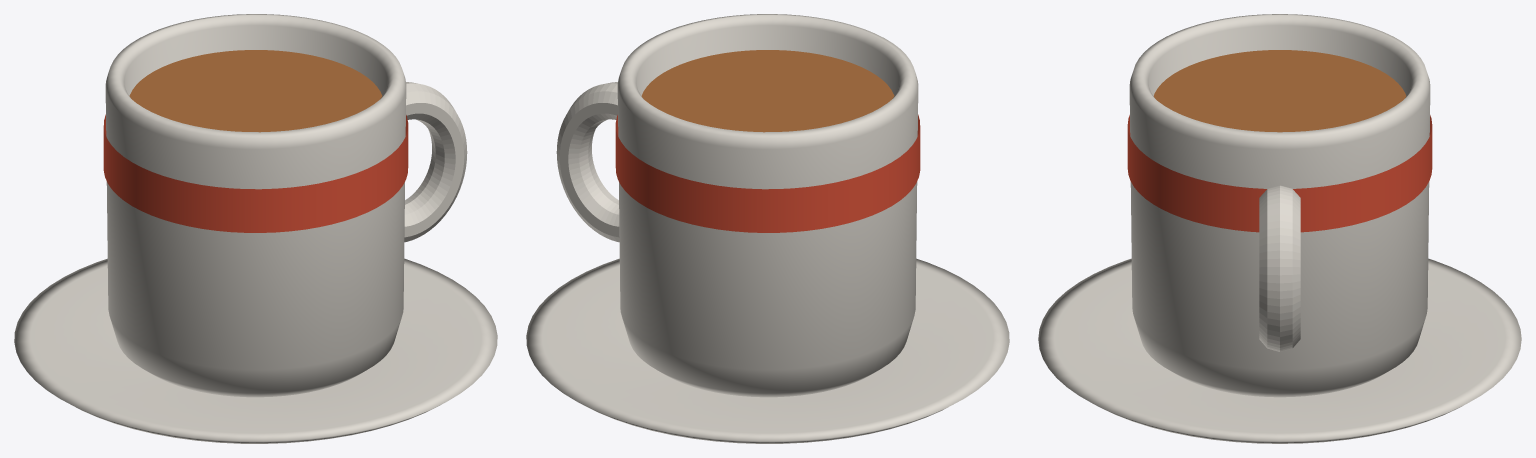
The model's file is taza_cafe.glb.
The picture shows the model from 3 angles, left to right: view 1: azimuth 30°, elevation 25°; view 2: azimuth 150°, elevation 25°; view 3: azimuth 270°, elevation 25°; orthographic projection.
Parts seen in each view (by area): view 1: vaso, plato, liquido, franja, Torus; view 2: vaso, plato, liquido, franja, Torus; view 3: vaso, plato, liquido, franja, Torus.
Part boxes in pixels (x1,y1,x2,y2): vaso: (105,14,406,397); plato: (14,258,497,443); liquido: (129,50,382,132); franja: (103,114,408,232); Torus: (404,82,467,242); vaso: (617,14,918,397); plato: (526,258,1009,443); liquido: (641,50,894,132); franja: (615,114,920,232); Torus: (556,82,619,242); vaso: (1129,14,1430,397); plato: (1038,258,1521,443); liquido: (1153,50,1406,132); franja: (1127,115,1432,232); Torus: (1259,185,1300,351).
Bounding box in the file's own units: 1.8 × 1.17 × 1.8.
